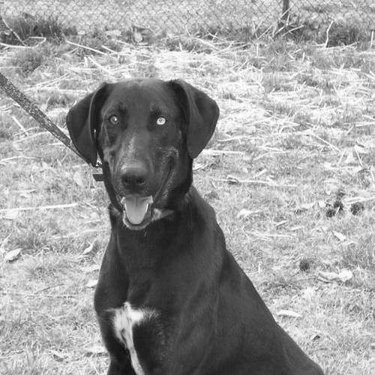dog: (52, 73, 329, 367)
